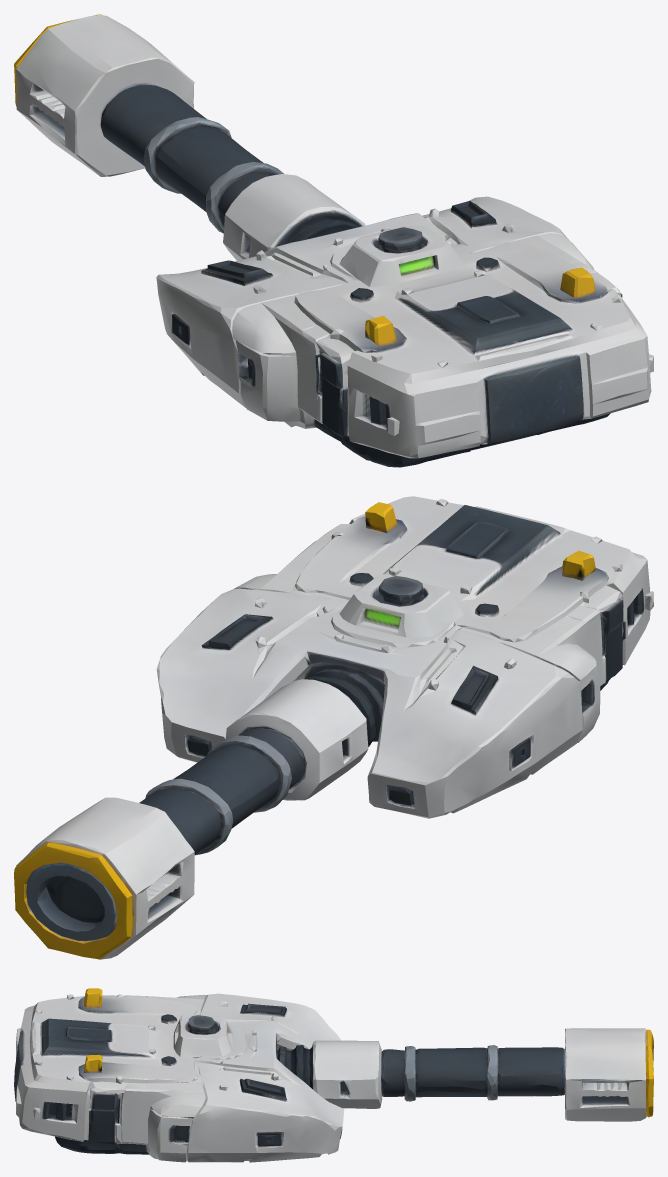
The model's file is cannon.glb.
3 views of the same model, one above another, from view 1: azimuth 30°, elevation 25°; view 2: azimuth 150°, elevation 25°; view 3: azimuth 270°, elevation 25° (orthographic). The views are drawn at different scales.
Visible parts, largest first — view 1: Body, Barrel, MuzzleShroud; view 2: Body, Barrel, MuzzleShroud; view 3: Body, Barrel, MuzzleShroud.
Boxes of the visible parts, x1,y1,x2,y2 form: Body: (156,196,653,467); Barrel: (100,84,365,260); MuzzleShroud: (14,14,194,176); Body: (156,496,653,818); Barrel: (139,662,384,855); MuzzleShroud: (14,797,194,959); Body: (14,988,344,1162); Barrel: (276,1040,564,1108); MuzzleShroud: (565,1028,653,1121).
Bounding box in the file's own units: 1.1 × 0.4577 × 2.57.
3 materials, 3 textured.
